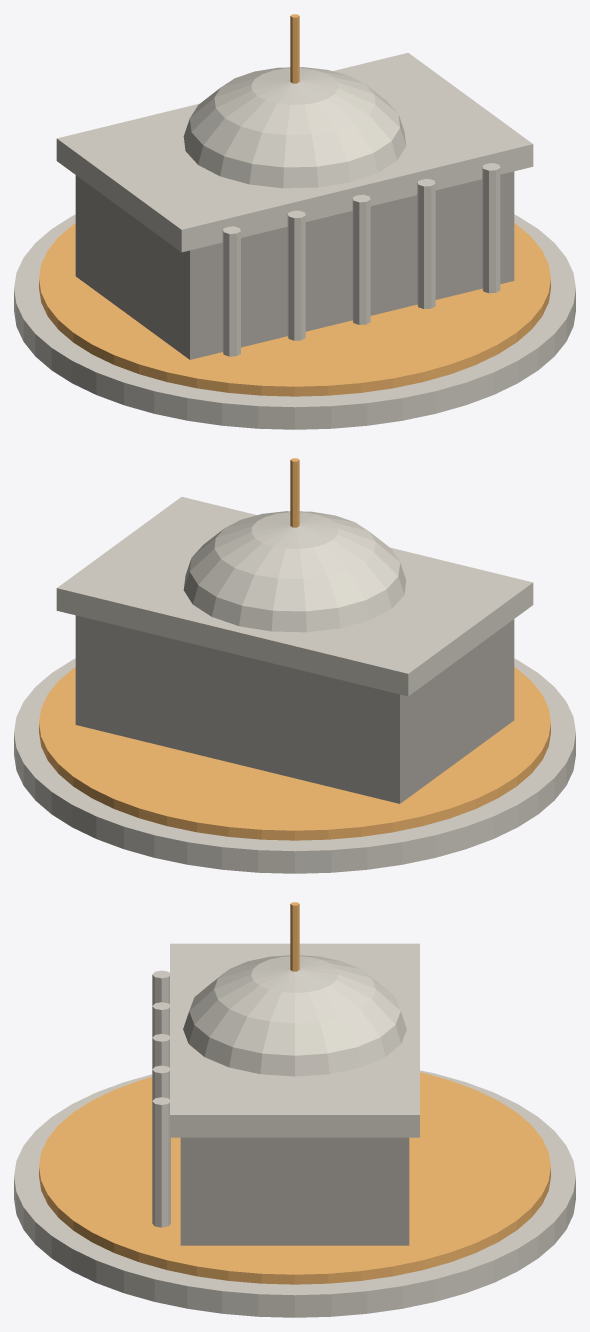
File: dome.glb
The picture shows the model from 3 angles, top to bottom: view 1: azimuth 30°, elevation 25°; view 2: azimuth 150°, elevation 25°; view 3: azimuth 270°, elevation 25°; orthographic projection.
Parts seen in each view (by area): view 1: Cone.007; view 2: Cone.007; view 3: Cone.007.
Part boxes in pixels (box(x1,y1,x2,y2)): Cone.007: box(14, 14, 575, 429); Cone.007: box(14, 458, 575, 873); Cone.007: box(14, 902, 575, 1317).
Bounding box in the file's own units: 2.7 × 1.57 × 2.7.
